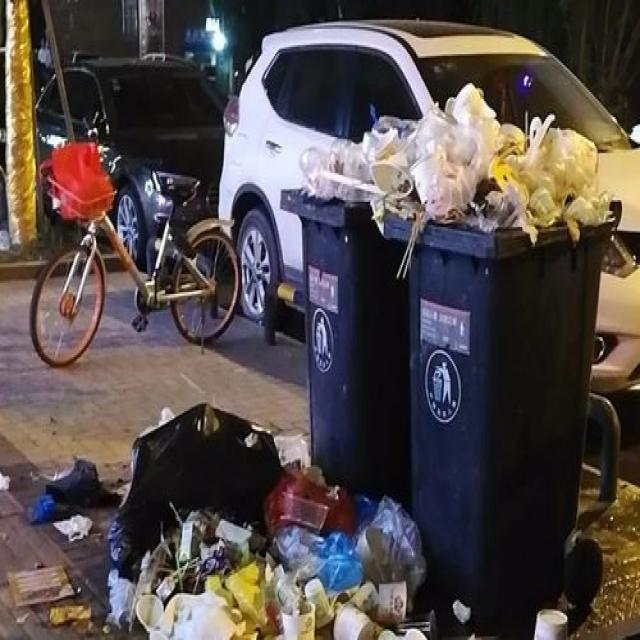garbage: (1, 398, 567, 638)
overflow: (381, 83, 621, 638), (279, 113, 410, 500)
